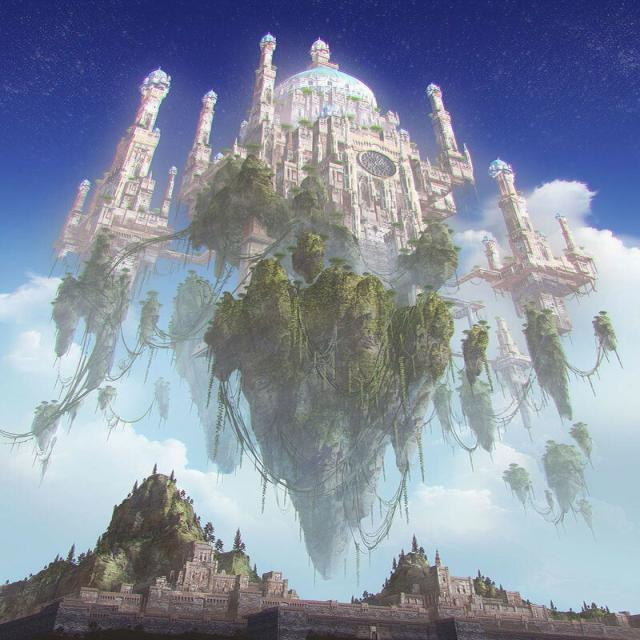castle: (31, 12, 626, 344)
